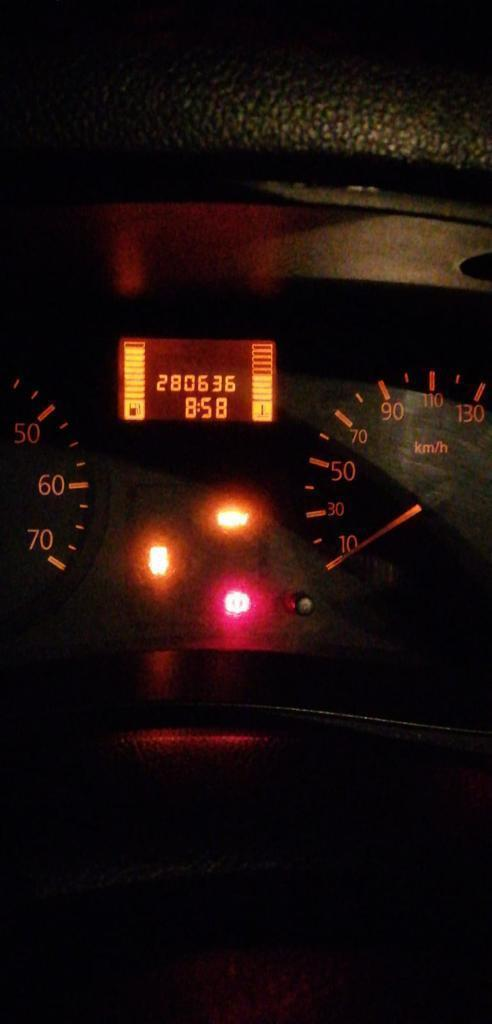0: (184, 373, 195, 391)
2: (156, 373, 168, 391)
3: (212, 375, 222, 392)
5: (200, 396, 212, 418)
6: (224, 374, 235, 392), (198, 374, 208, 392)
8: (185, 396, 197, 417), (216, 396, 227, 418), (170, 373, 181, 392)
X: (196, 401, 200, 413)
odometer: (114, 332, 279, 426)
